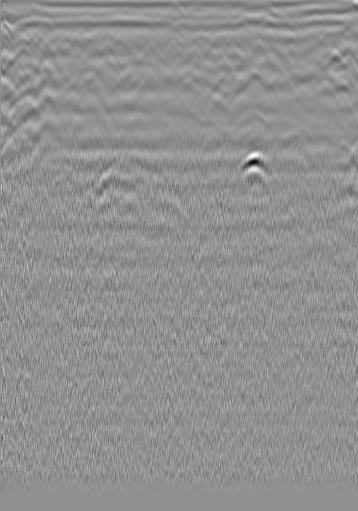가스: (236, 146, 276, 185)
상수: (9, 28, 29, 48)
오수: (308, 18, 328, 38)
우수: (141, 32, 161, 52)
